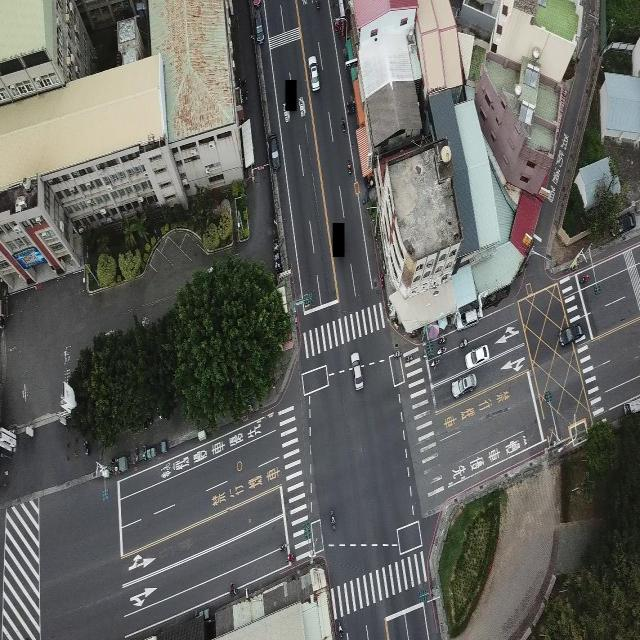bike: (229, 581, 241, 598), (578, 271, 589, 288), (341, 112, 348, 136), (285, 550, 296, 564), (346, 156, 353, 177), (279, 540, 289, 553), (330, 509, 336, 529), (430, 360, 443, 368), (459, 336, 467, 349), (437, 345, 446, 356), (406, 353, 416, 362), (392, 351, 403, 358), (316, 0, 320, 11)
car: (456, 301, 482, 330), (558, 323, 586, 347), (266, 130, 281, 172), (464, 344, 488, 369), (452, 372, 476, 397), (350, 351, 364, 391), (308, 54, 320, 91), (253, 7, 263, 42)
